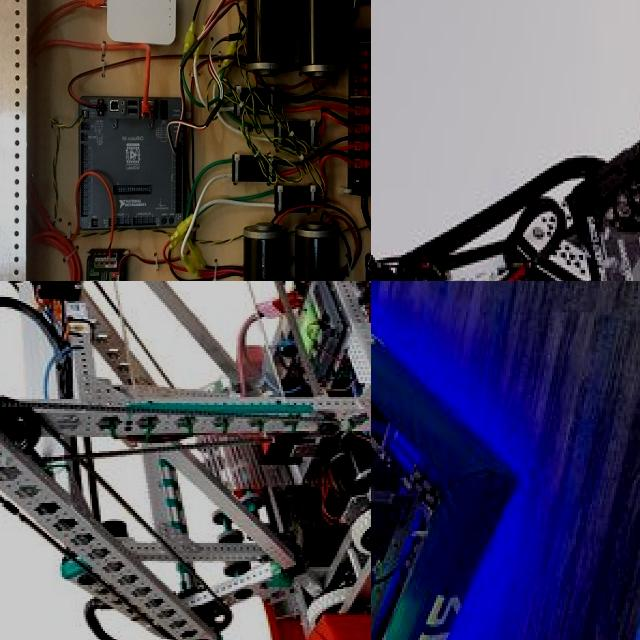FRC-Robots: (0, 281, 371, 640), (371, 14, 640, 281), (371, 281, 512, 640)
